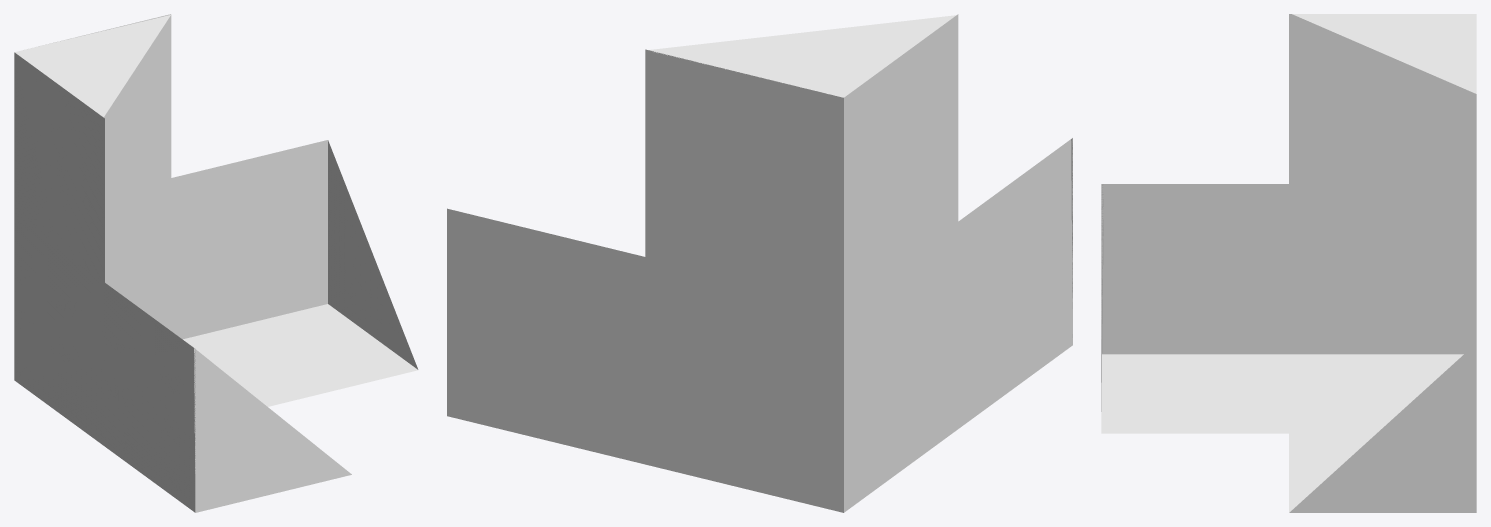
The model's file is r5c5_body_white.gltf.
3 views of the same model, side by side, from view 1: azimuth 30°, elevation 25°; view 2: azimuth 150°, elevation 25°; view 3: azimuth 270°, elevation 25° (orthographic). The views are drawn at different scales.
Parts seen in each view (by area): view 1: r5c5_body_white; view 2: r5c5_body_white; view 3: r5c5_body_white.
Part boxes in pixels (x1=…): r5c5_body_white: x1=14, y1=14, x2=418, y2=512; r5c5_body_white: x1=447, y1=14, x2=1072, y2=512; r5c5_body_white: x1=1101, y1=14, x2=1476, y2=512.
Bounding box in the file's own units: 2 × 2 × 2.
Materials: 1 (1 with a texture image).
